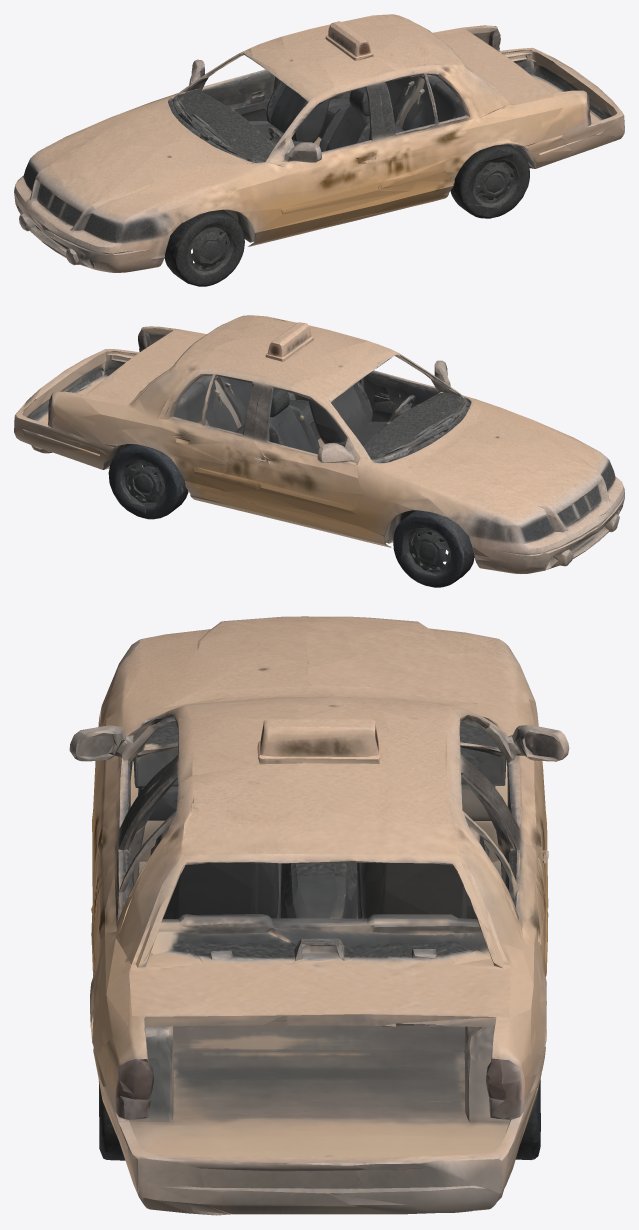
The picture shows the model from 3 angles, top to bottom: view 1: azimuth 30°, elevation 25°; view 2: azimuth 150°, elevation 25°; view 3: azimuth 270°, elevation 25°; orthographic projection. The views are drawn at different scales.
Bounding box in the file's own units: 1.9 × 0.5661 × 0.7526.
Materials: 1 (1 with a texture image).
